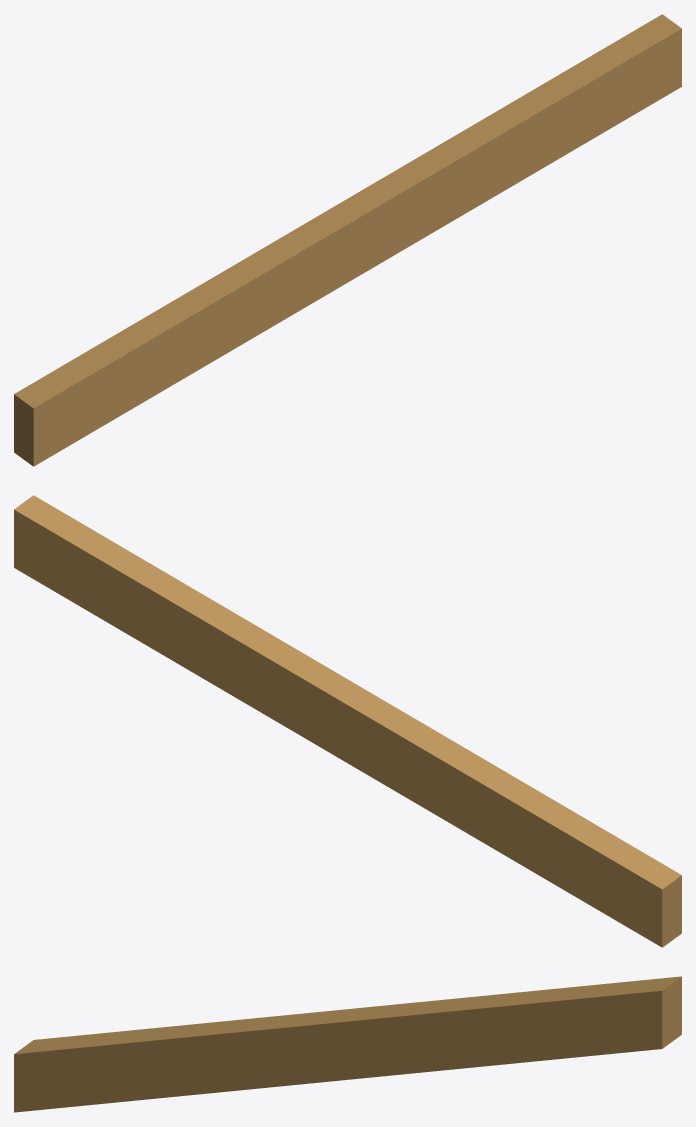
The picture shows the model from 3 angles, top to bottom: view 1: azimuth 30°, elevation 25°; view 2: azimuth 150°, elevation 25°; view 3: azimuth 330°, elevation 25°; orthographic projection.
Visible parts, largest first — view 1: L4-6-S3-3DB-M07; view 2: L4-6-S3-3DB-M07; view 3: L4-6-S3-3DB-M07.
Boxes of the visible parts, <box> form: L4-6-S3-3DB-M07: <box>14,14,681,466</box>; L4-6-S3-3DB-M07: <box>14,495,681,947</box>; L4-6-S3-3DB-M07: <box>14,976,681,1112</box>.
Size of the model in its own units: 0.8592 by 0.3546 by 0.045.
